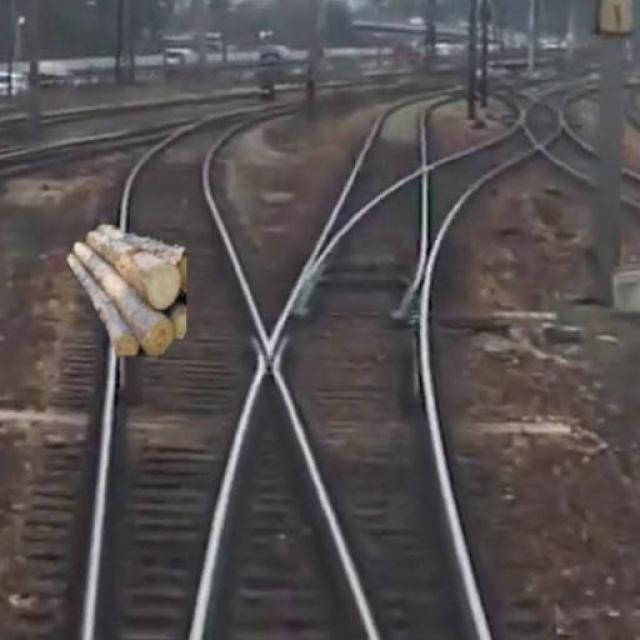Branches: (62, 215, 203, 364)
